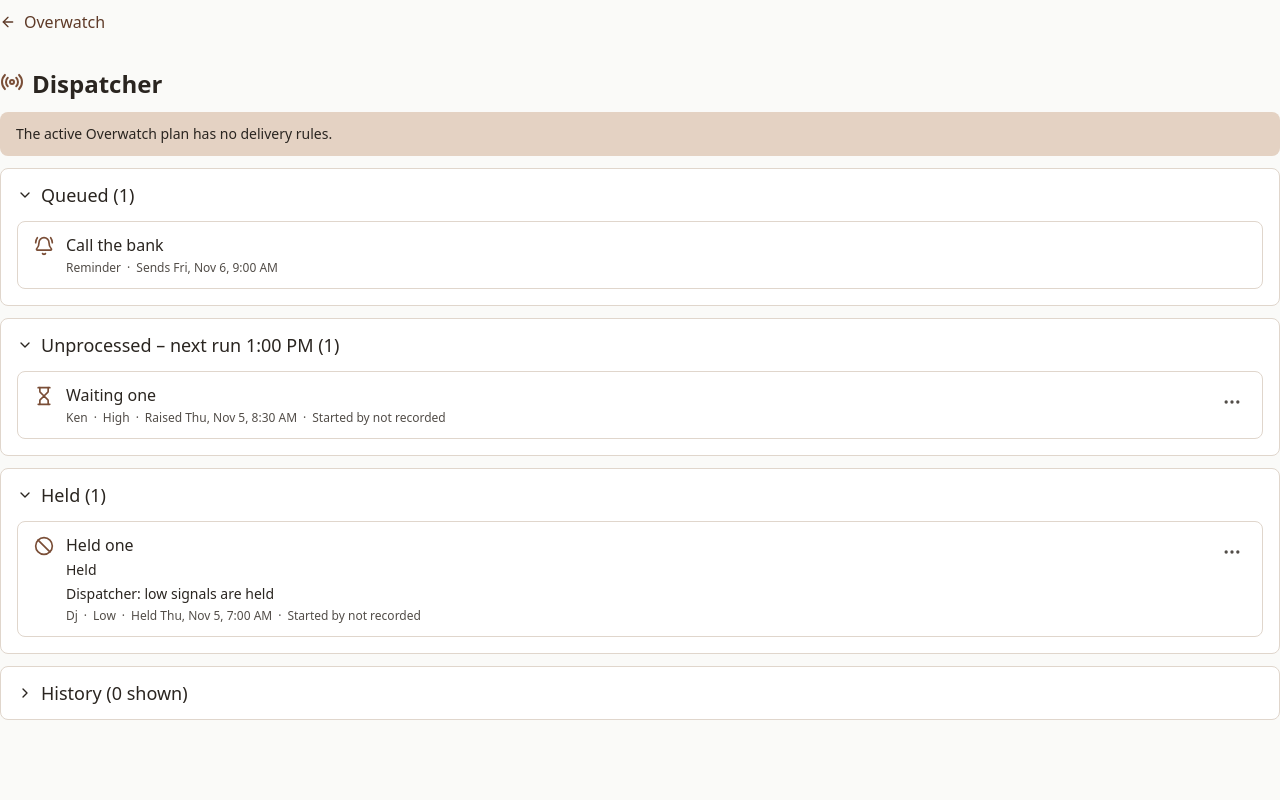
hold moves the card to Held; send now moves it to History, by you, with no reload
Click the button named "Actions for Waiting one" at (1232, 402), box [1210, 380, 1254, 424]
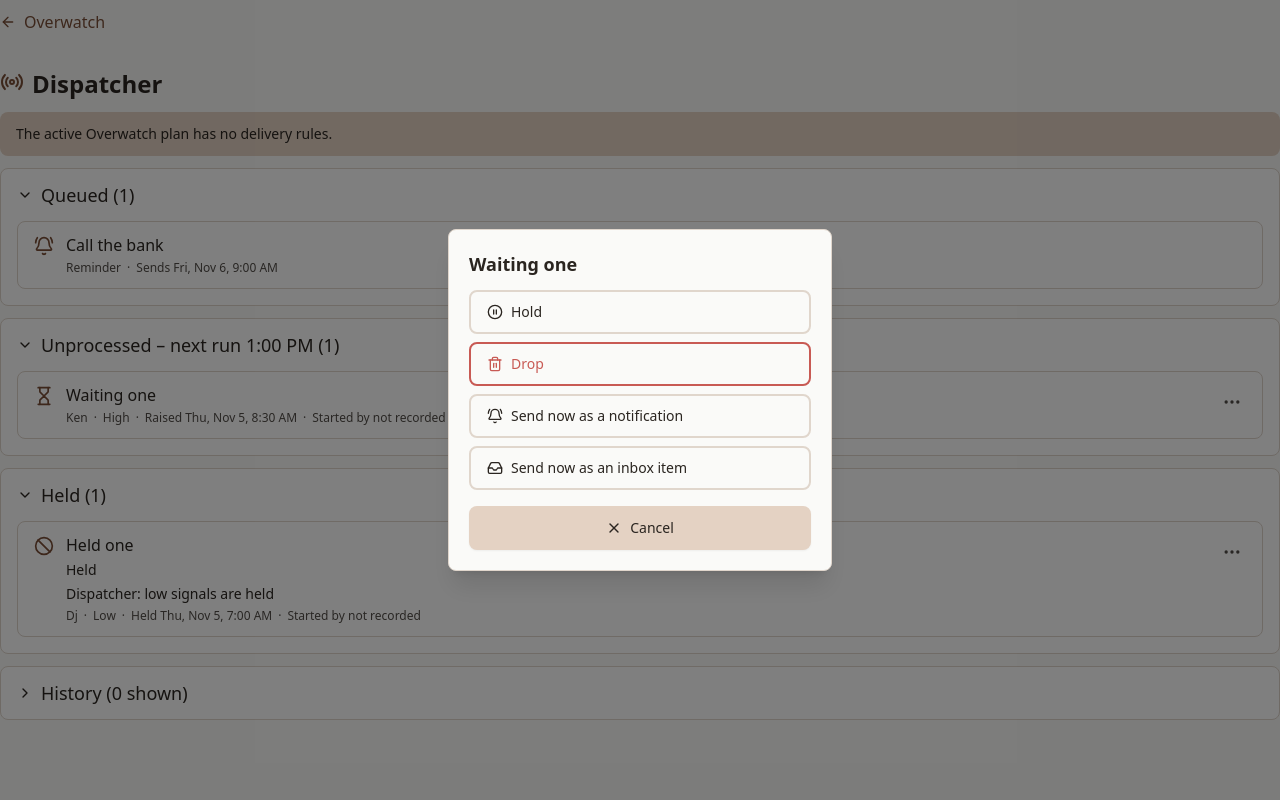
Click the button "Hold" at (527, 312), box [469, 290, 811, 334]
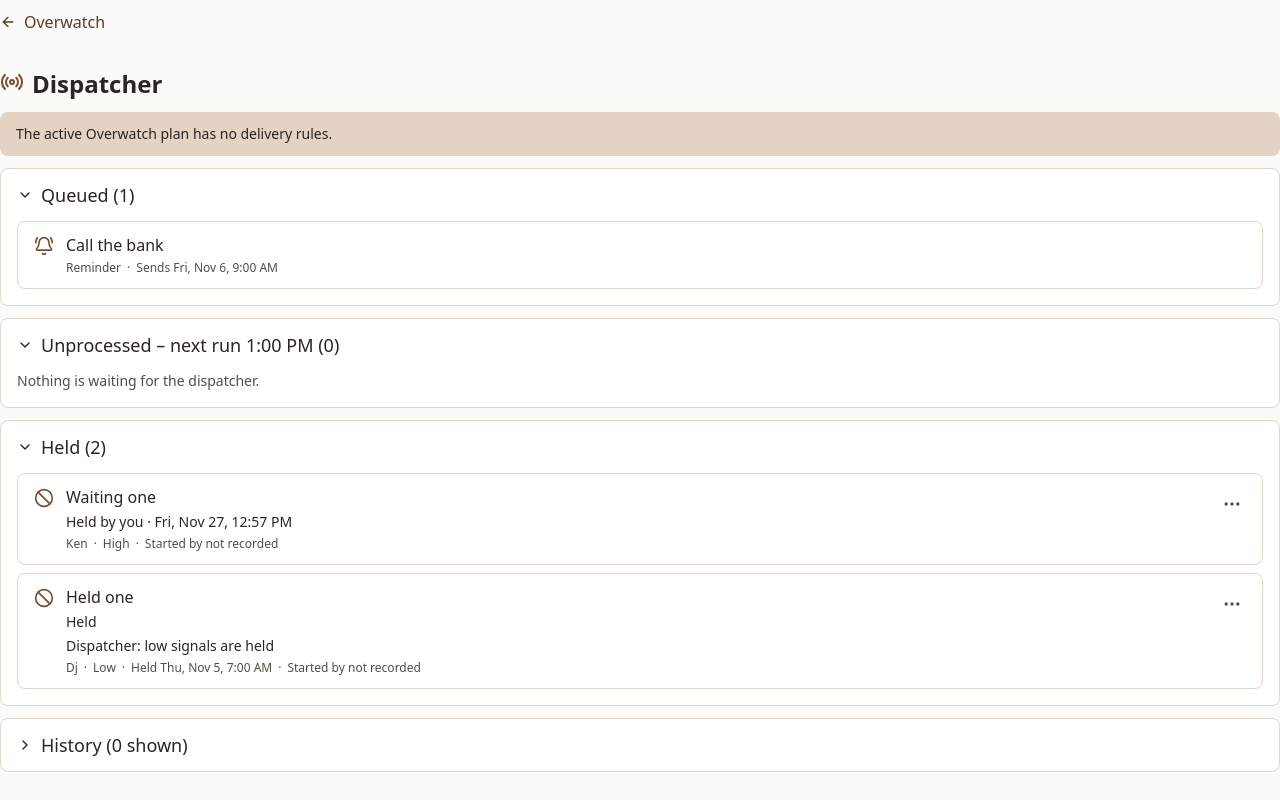
Expected: the link "Waiting one" is shown, [66, 486, 156, 508]
Now the text "Held by you · Fri, Nov 27, 12:57 PM" is shown, box [66, 512, 292, 531]
Click the button named "Actions for Waiting one" at (1232, 504), box [1210, 482, 1254, 526]
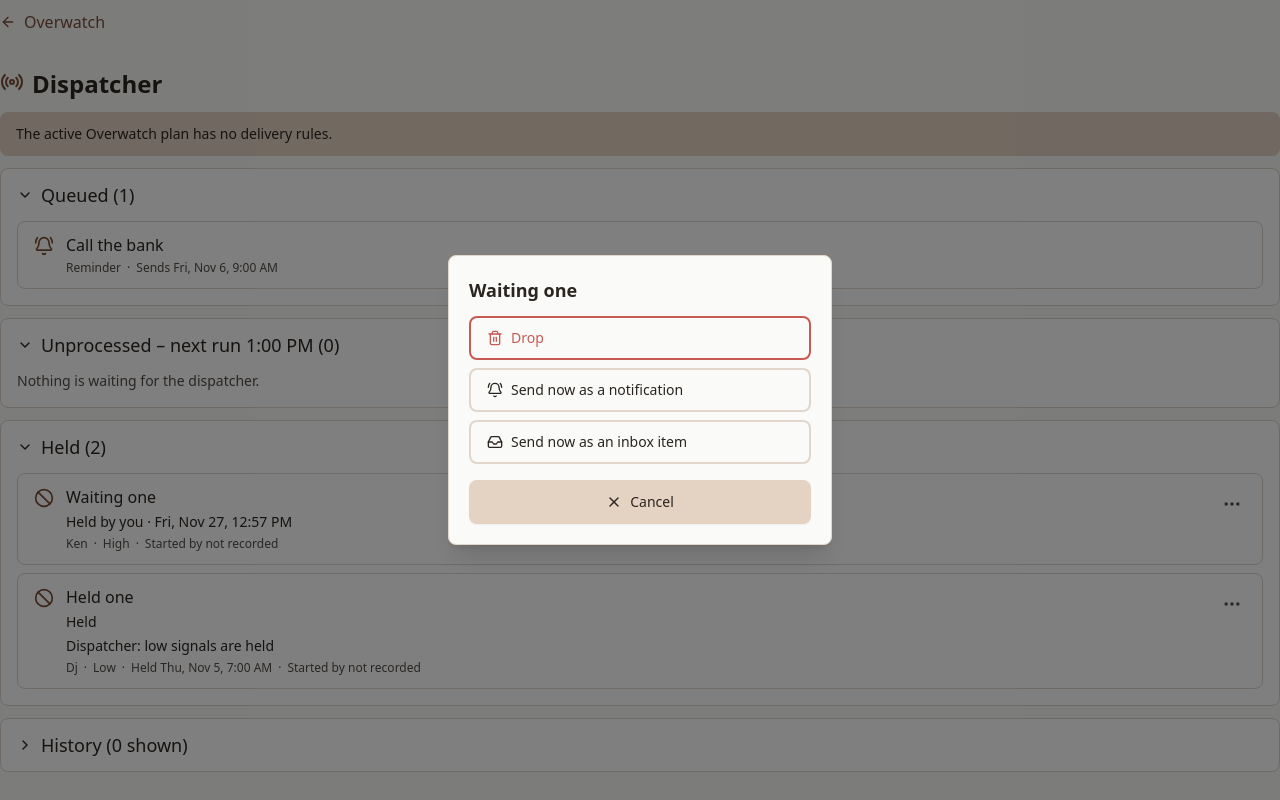
Expected: the button "Hold" is not shown
Click the button "Send now as a notification" at (640, 390), box [469, 368, 811, 412]
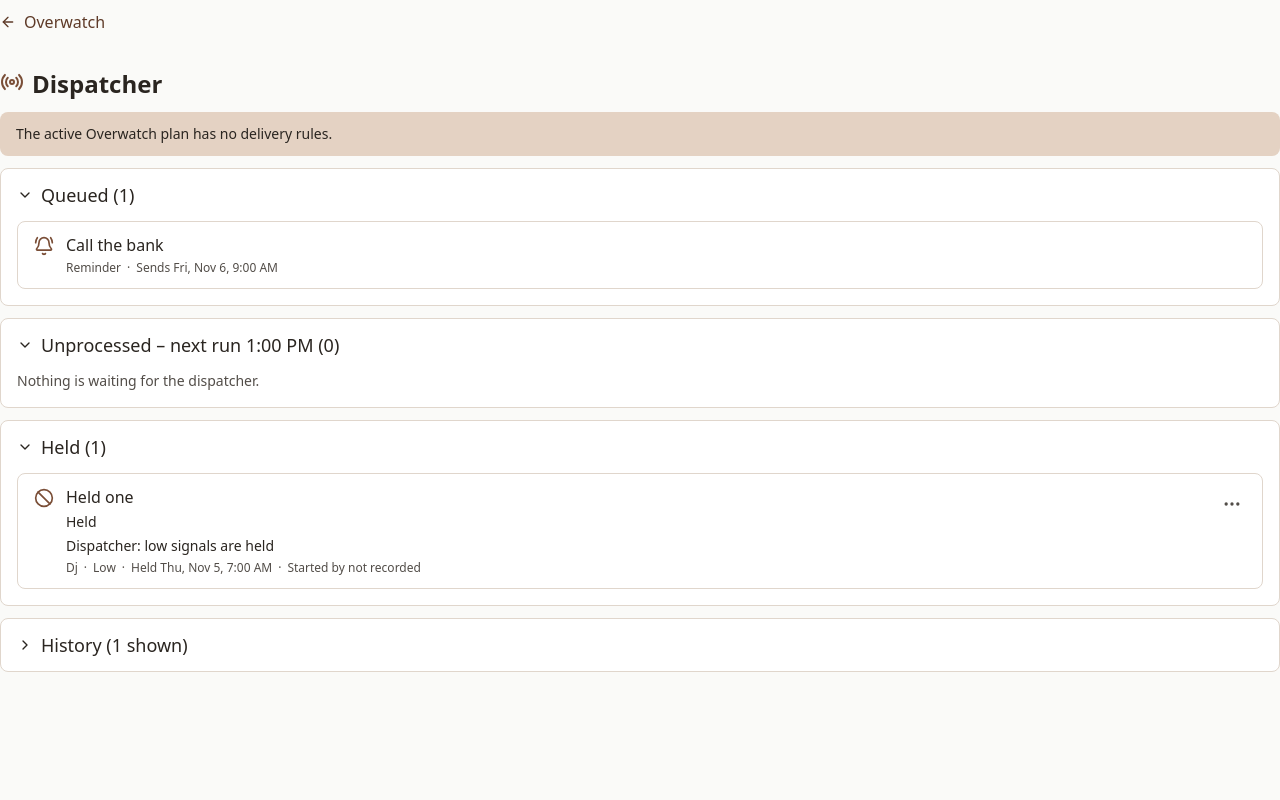
Now the element "Held (1)" is shown, box [0, 420, 1279, 606]
Click the button "History (1 shown)" at (102, 645), box [17, 623, 188, 667]
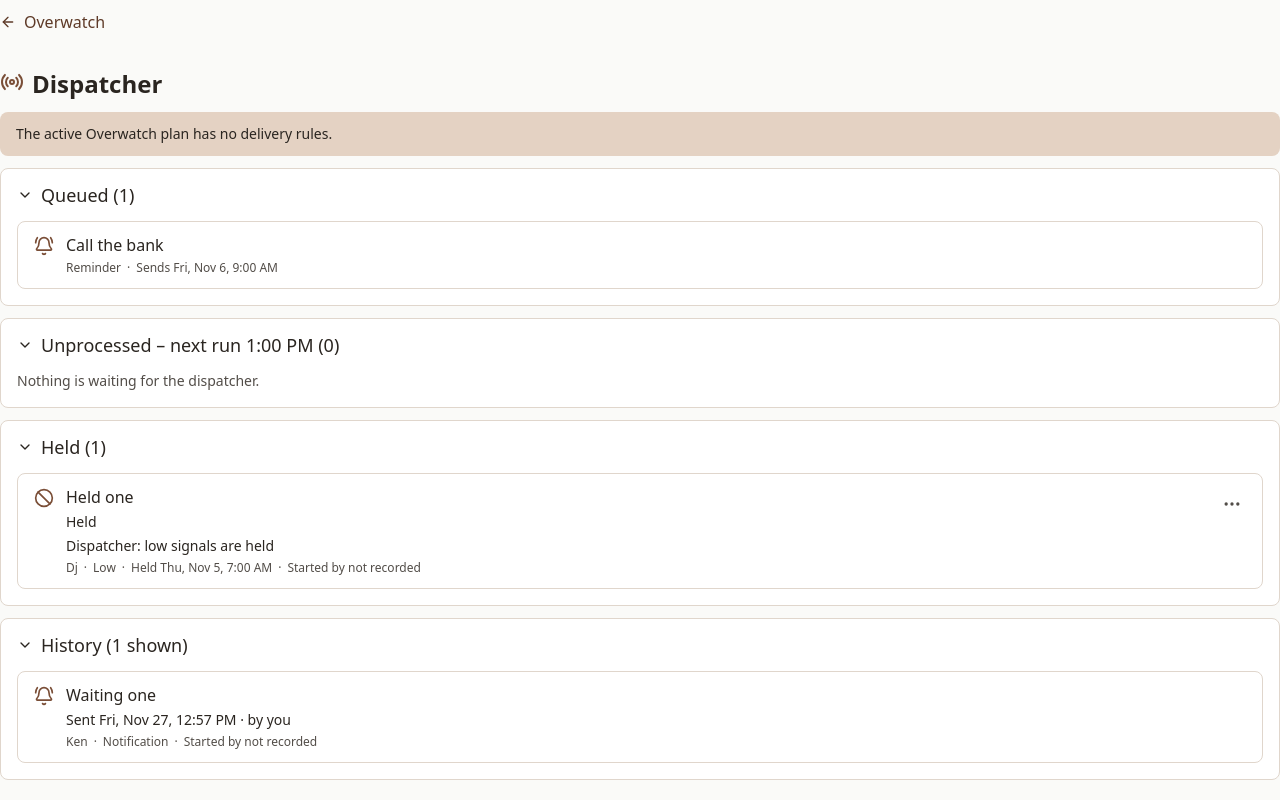
Now the text "Sent Fri, Nov 27, 12:57 PM · by you" is shown, box [66, 710, 291, 729]
